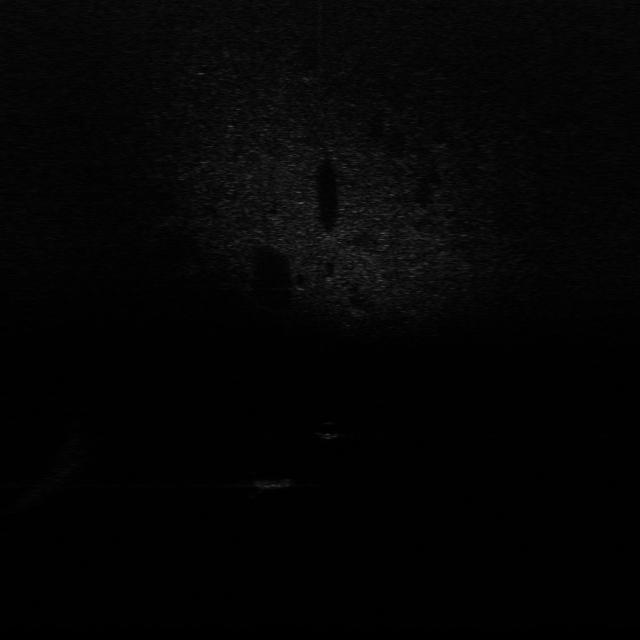ball: (312, 420, 341, 440)
square cage: (256, 470, 294, 492)
